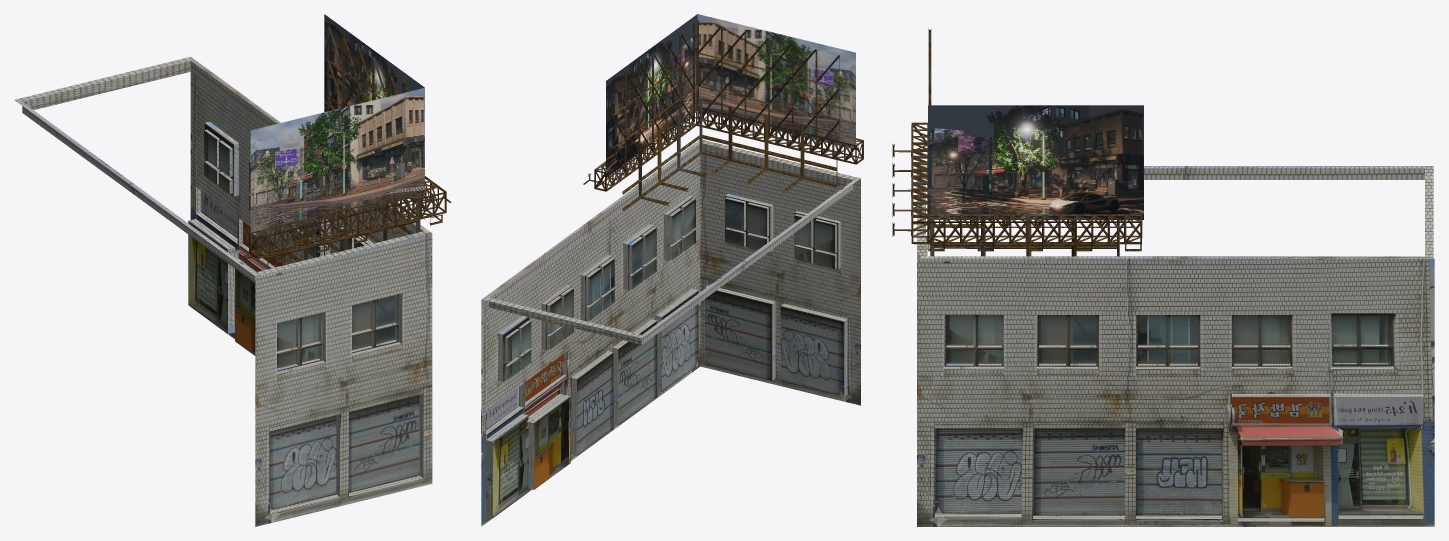
Rendered from seoul_01.gltf.
3 views of the same model, side by side, from view 1: azimuth 30°, elevation 25°; view 2: azimuth 150°, elevation 25°; view 3: azimuth 270°, elevation 25° (orthographic). The views are drawn at different scales.
Visible parts, largest first — view 1: seoul_01; view 2: seoul_01; view 3: seoul_01.
Part boxes in pixels (x1,y1,x2,y2): seoul_01: (14,14,451,526); seoul_01: (481,14,863,526); seoul_01: (892,29,1434,526).
Bounding box in the file's own units: 18.27 × 33.68 × 39.33.
5 materials, 5 textured.
